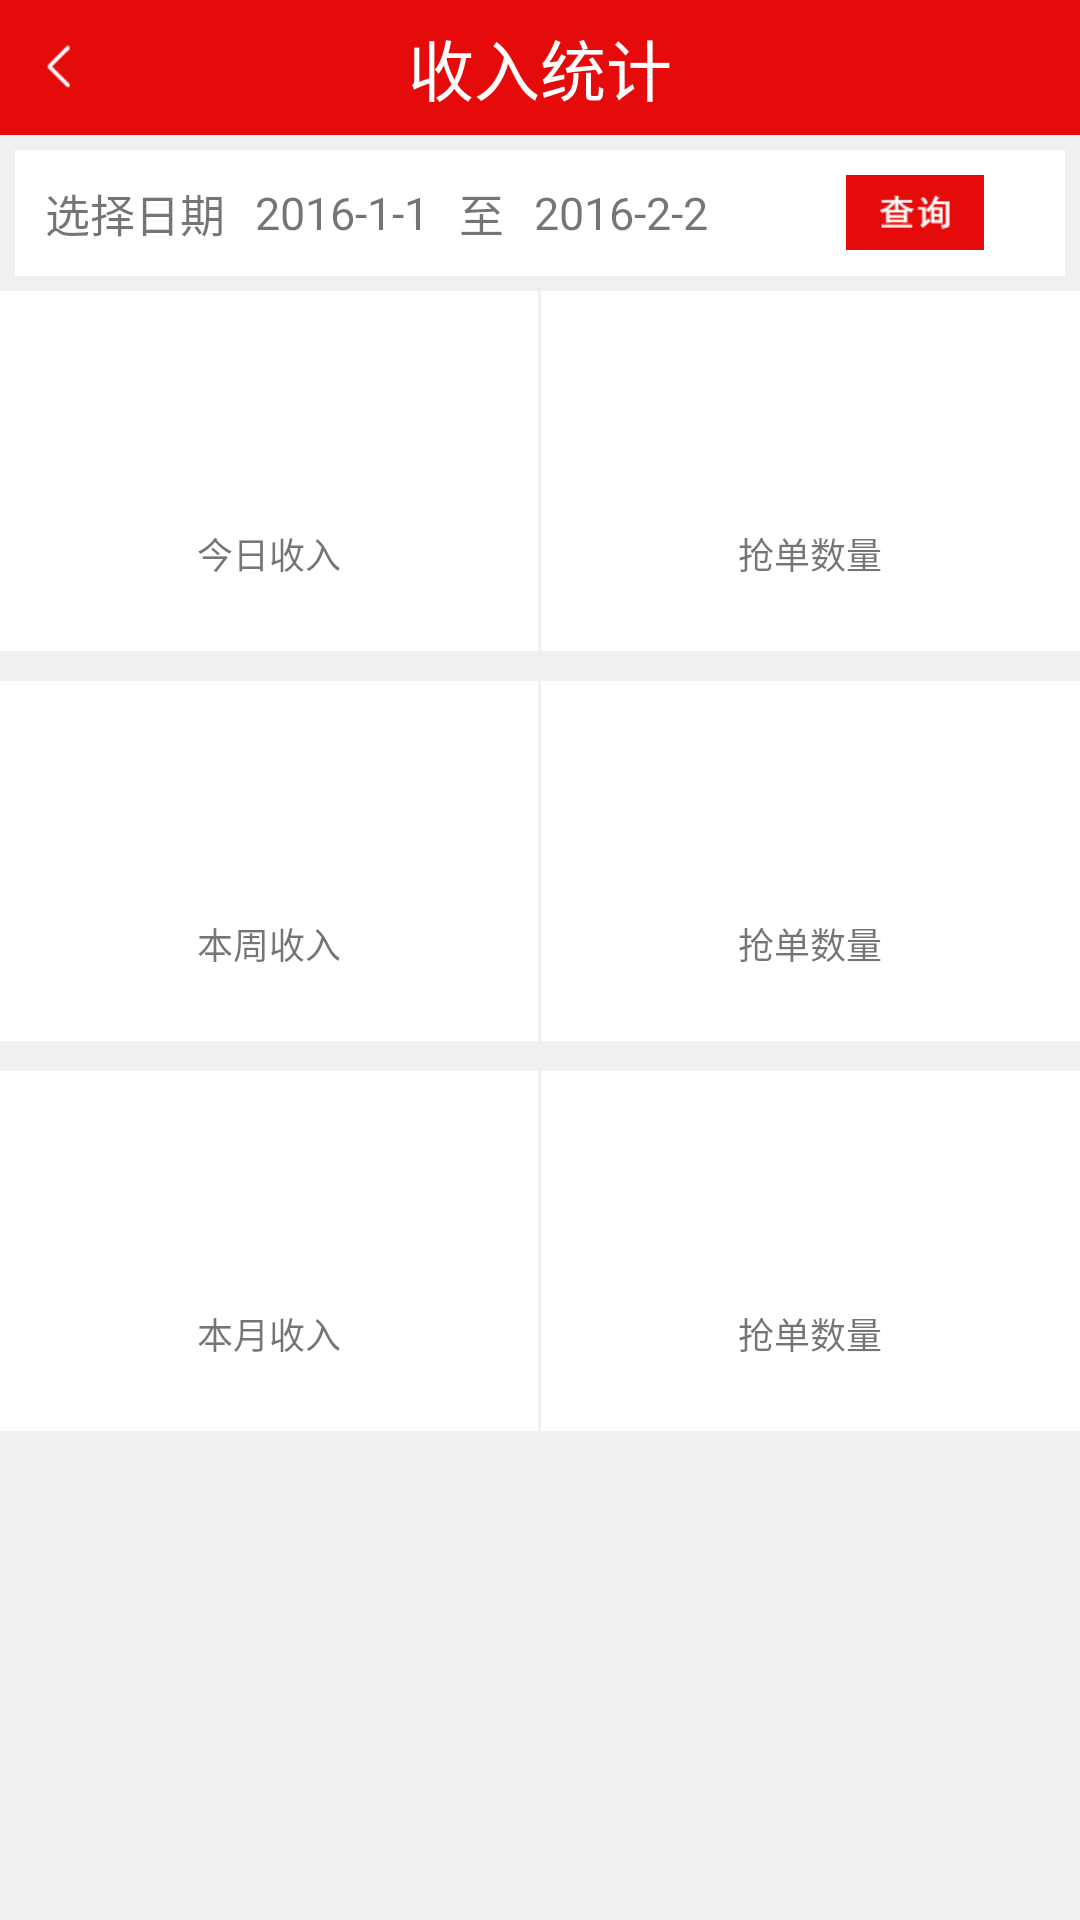

Screen size 1080px×1920px. Icon name, then its box in pixels as bbox=[x1, y1, x2, y2]:
btnbar back: bbox=[47, 45, 70, 88]
